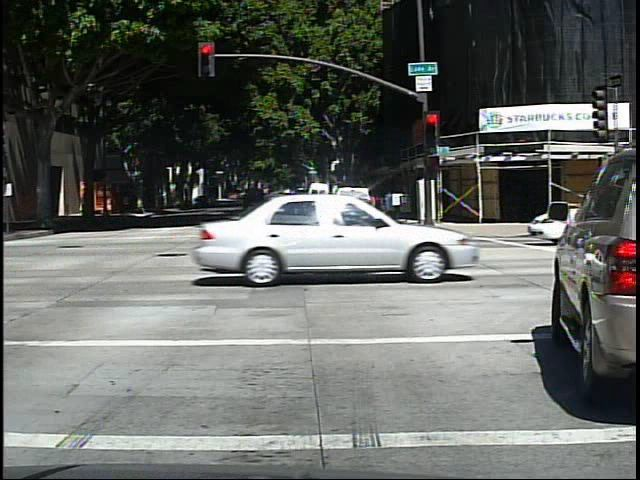person: (74, 186, 91, 220)
